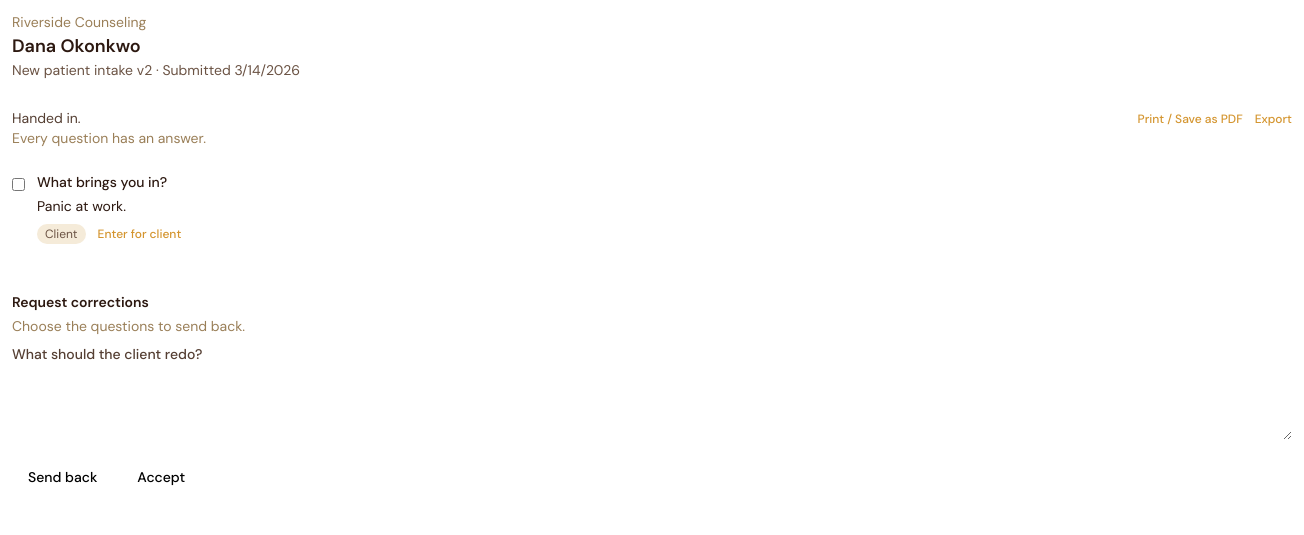
Test: IntakeReviewPanel › says so when the file could not be fetched, and saves nothing
Click the button with test id "intake-review-export" at {"x": 1273, "y": 119}, box left=1255, top=111, right=1292, bottom=127
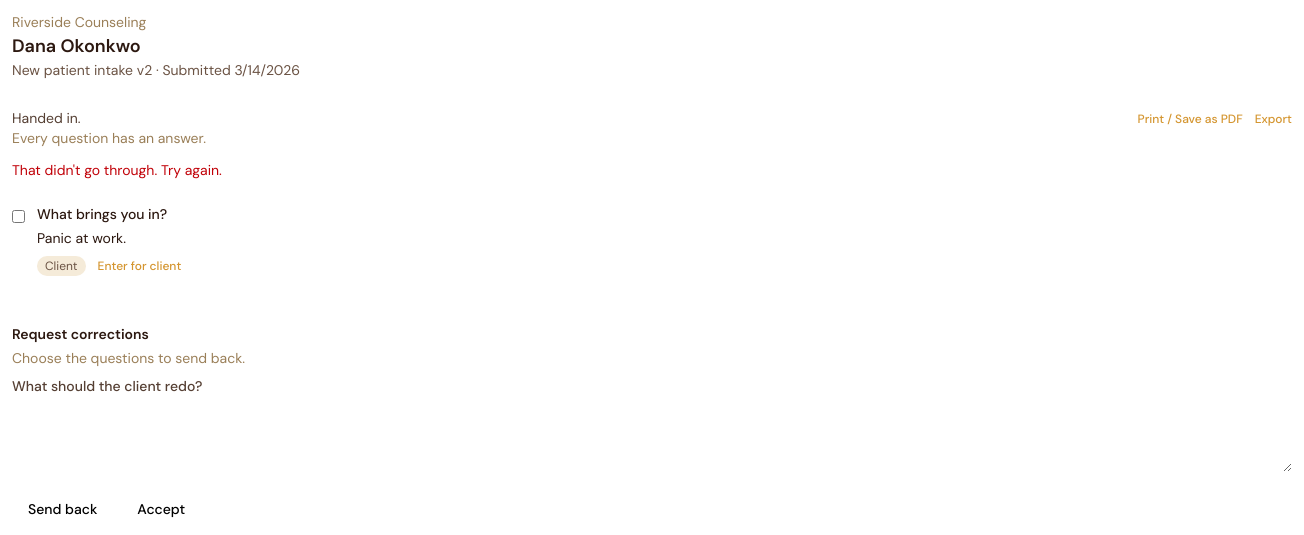
expect the message with test id "intake-review-error" shows "That didn't go through.": met, box left=12, top=161, right=222, bottom=179
